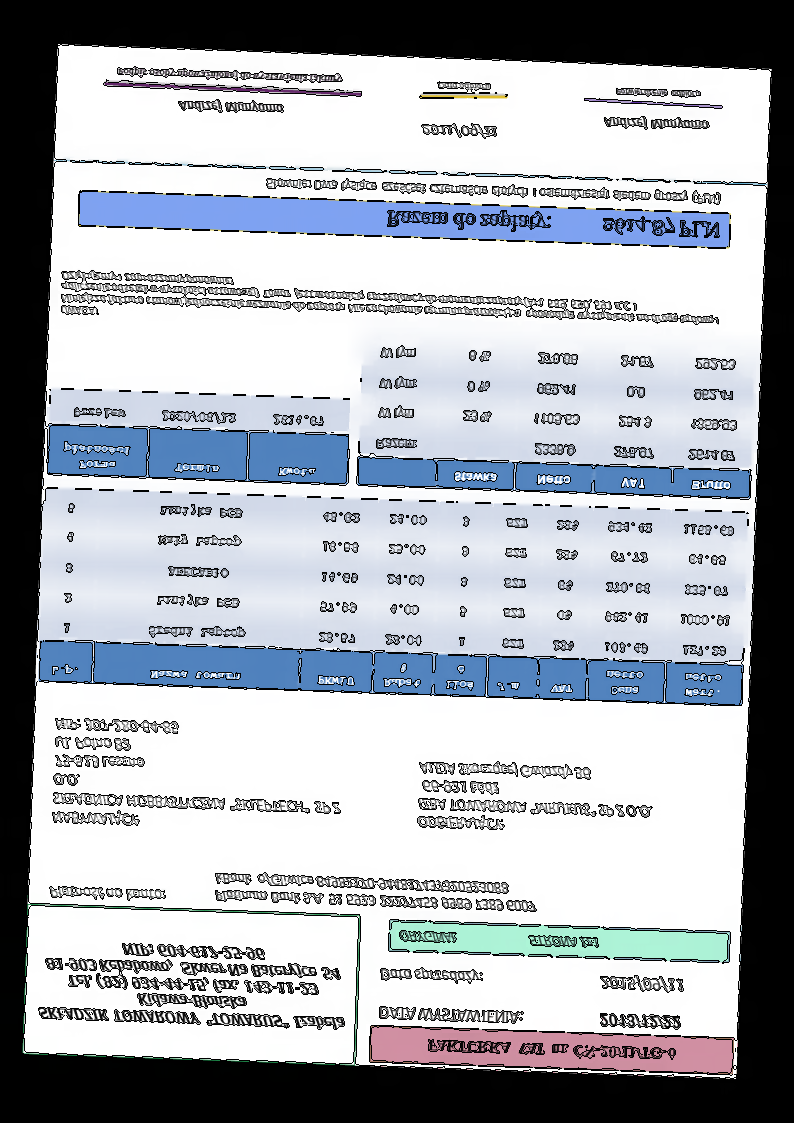Table: (36, 486, 750, 707), (355, 330, 758, 502), (45, 387, 352, 486)
TextBox: (58, 268, 725, 341), (48, 714, 347, 838), (35, 936, 352, 1035), (415, 756, 656, 840), (263, 171, 723, 209), (211, 868, 539, 915), (384, 204, 722, 245), (423, 1036, 677, 1065), (396, 927, 601, 954), (114, 65, 344, 86), (375, 1002, 523, 1030), (47, 883, 167, 906), (377, 964, 485, 989), (173, 97, 289, 118), (597, 972, 686, 997), (601, 113, 711, 133), (596, 1009, 683, 1033), (417, 121, 499, 142), (612, 85, 701, 102), (434, 77, 493, 95)
